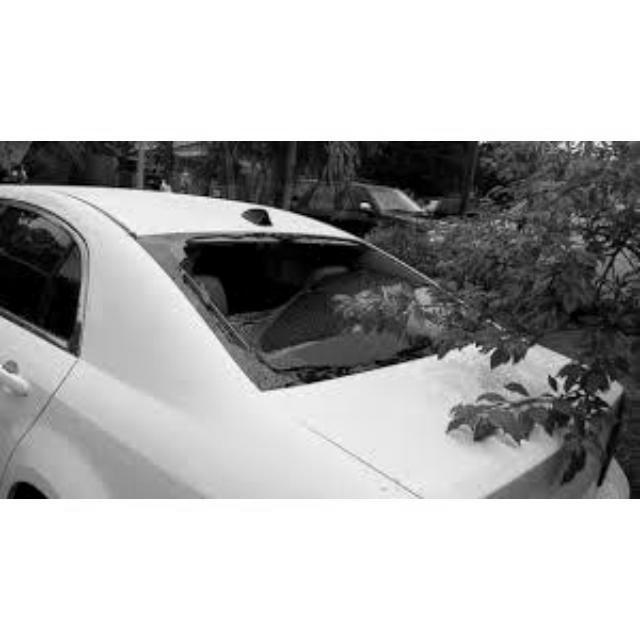Rear-windscreen-Damage: (177, 223, 477, 404)
